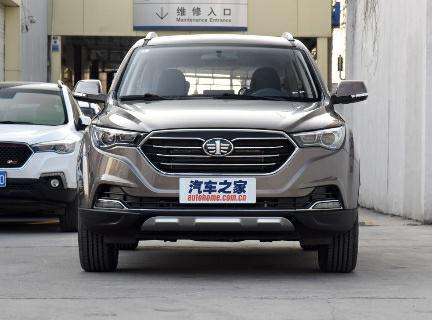奔腾-X40: (73, 21, 367, 282)
